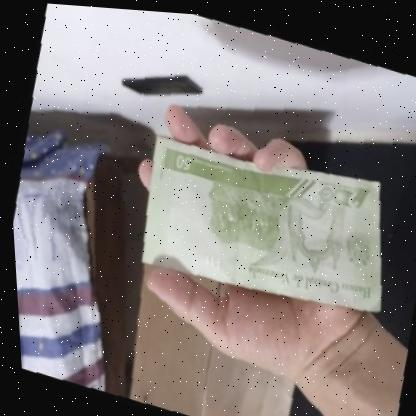fifty-back-vef: (122, 107, 409, 334)
